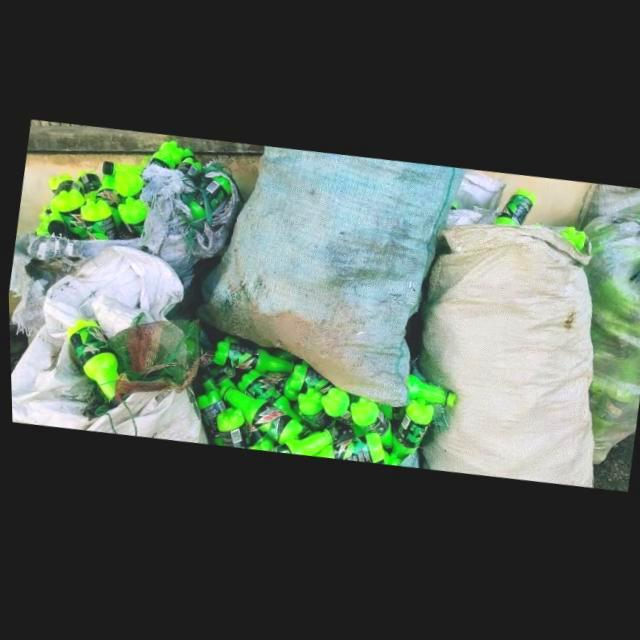plastic_bottle: (217, 389, 300, 448), (65, 321, 116, 403), (235, 373, 298, 425), (210, 344, 290, 377), (389, 403, 431, 465), (347, 401, 390, 453), (309, 437, 382, 467), (264, 431, 336, 459), (51, 189, 88, 241), (403, 379, 455, 412), (492, 194, 535, 231), (79, 200, 116, 241), (296, 391, 330, 434), (214, 410, 247, 452), (318, 392, 350, 430), (116, 199, 147, 237), (112, 173, 142, 205), (77, 171, 99, 202), (558, 233, 585, 257), (101, 163, 146, 176), (53, 181, 83, 197), (149, 154, 175, 172), (176, 160, 201, 178)
